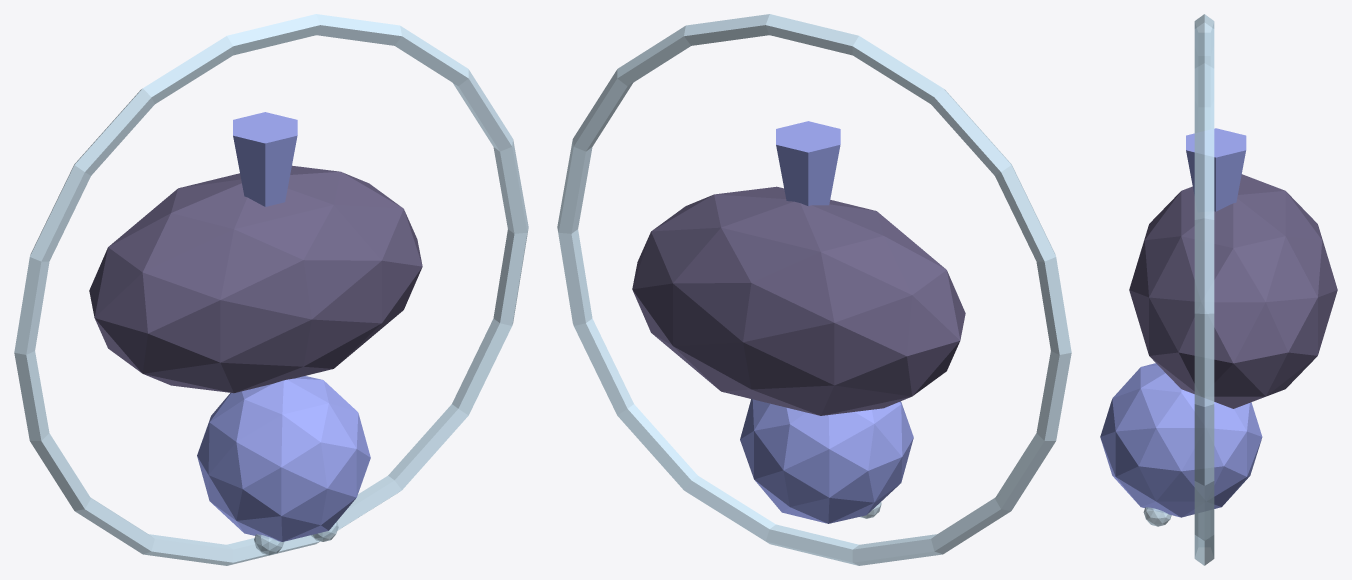
Rendered from 08_pet_companion_proc.glb.
3 views of the same model, side by side, from view 1: azimuth 30°, elevation 25°; view 2: azimuth 150°, elevation 25°; view 3: azimuth 270°, elevation 25° (orthographic). The views are drawn at different scales.
Visible parts, largest first — view 1: pet_body, bonus_proc_ring, pet_head, tail_or_antenna; view 2: pet_body, bonus_proc_ring, pet_head, tail_or_antenna; view 3: pet_body, pet_head, bonus_proc_ring, tail_or_antenna, pet_eye_r.
Part boxes in pixels (x1,y1,x2,y2): pet_body: (89, 165, 422, 393); bonus_proc_ring: (14, 14, 528, 565); pet_head: (197, 376, 370, 541); tail_or_antenna: (233, 112, 297, 206); pet_body: (632, 186, 965, 415); bonus_proc_ring: (557, 14, 1071, 565); pet_head: (740, 399, 913, 523); tail_or_antenna: (776, 121, 840, 206); pet_body: (1129, 174, 1337, 408); pet_head: (1100, 363, 1262, 517); bonus_proc_ring: (1194, 14, 1214, 565); tail_or_antenna: (1186, 128, 1246, 211); pet_eye_r: (1143, 507, 1171, 526).
Size of the model in its own units: 0.956 by 0.9415 by 0.41.
